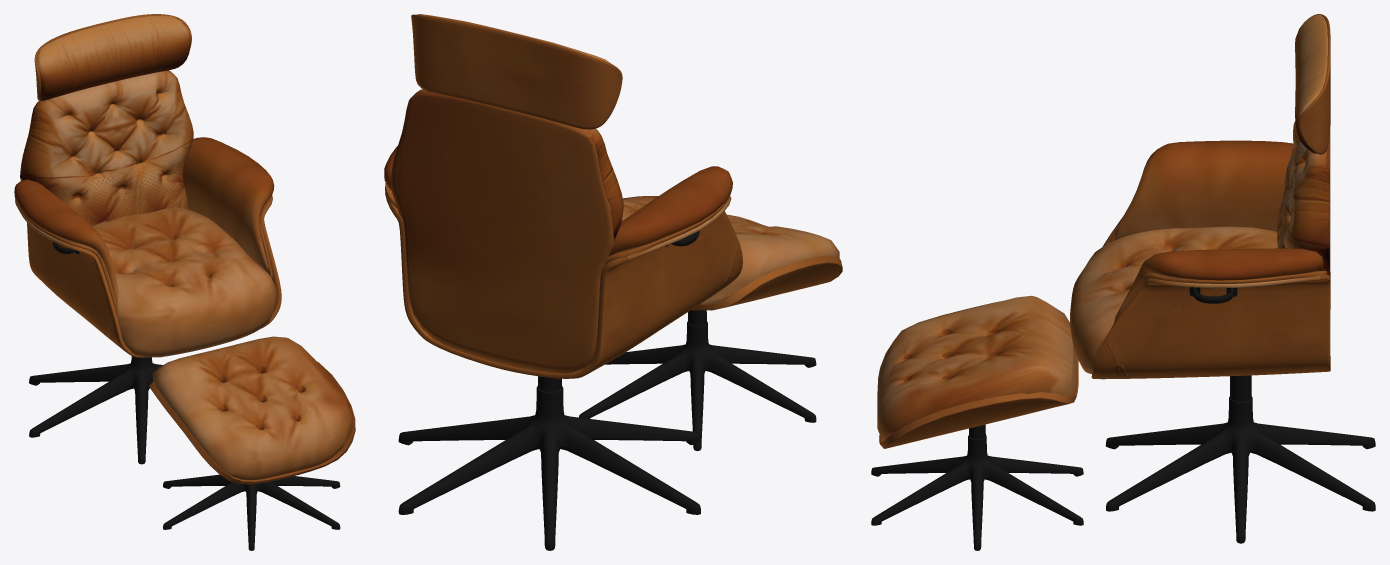
The model's file is four.glb.
3 renders of one model, left to right at view 1: azimuth 30°, elevation 25°; view 2: azimuth 150°, elevation 25°; view 3: azimuth 270°, elevation 25°, orthographic. The views are drawn at different scales.
Visible parts, largest first — view 1: All-Mesh_0, Stand_1; view 2: All-Mesh_0, Stand_1; view 3: All-Mesh_0, Stand_1.
Part boxes in pixels (box(x1,y1,x2,y2)): All-Mesh_0: box(14, 14, 355, 484); Stand_1: box(29, 241, 340, 550); All-Mesh_0: box(384, 14, 842, 378); Stand_1: box(398, 231, 816, 550); All-Mesh_0: box(877, 14, 1330, 448); Stand_1: box(871, 287, 1375, 550).
Size of the model in its own units: 3.09 by 4.92 by 4.97.
2 materials, 1 textured.
